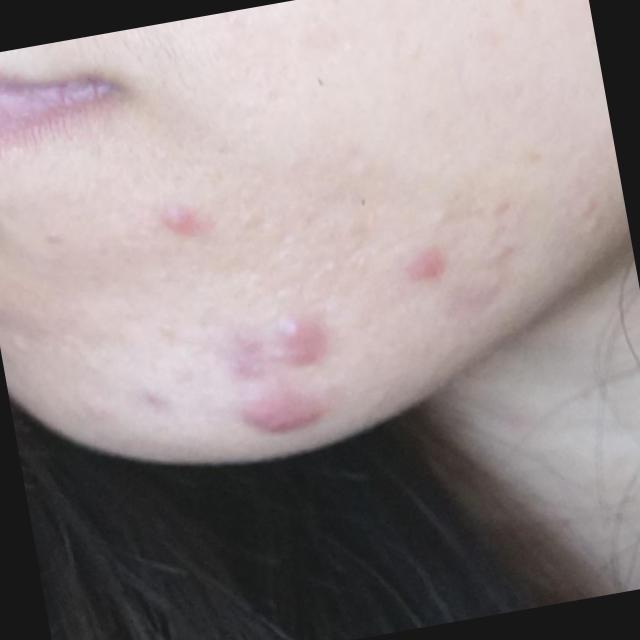nodule: (238, 380, 326, 440), (264, 312, 330, 372), (402, 246, 449, 284), (160, 202, 202, 240)
